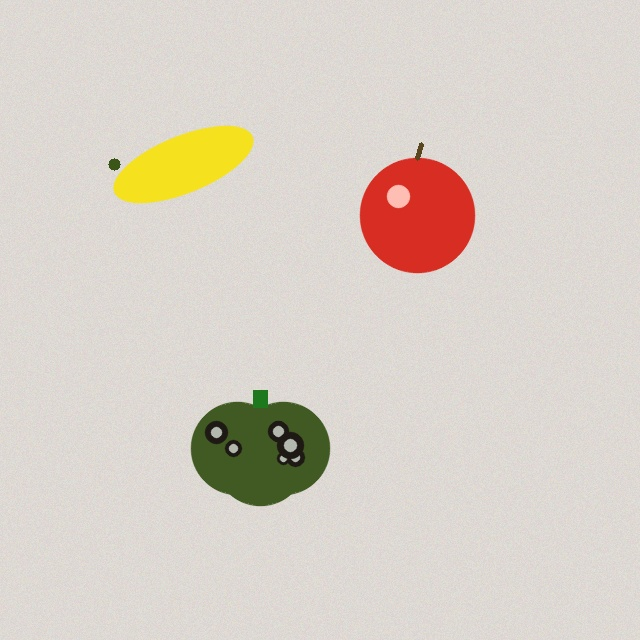Fresh apple: (360, 144, 474, 272)
Fresh banana: (106, 129, 260, 199)
Rotten bell pepper: (191, 390, 329, 505)
